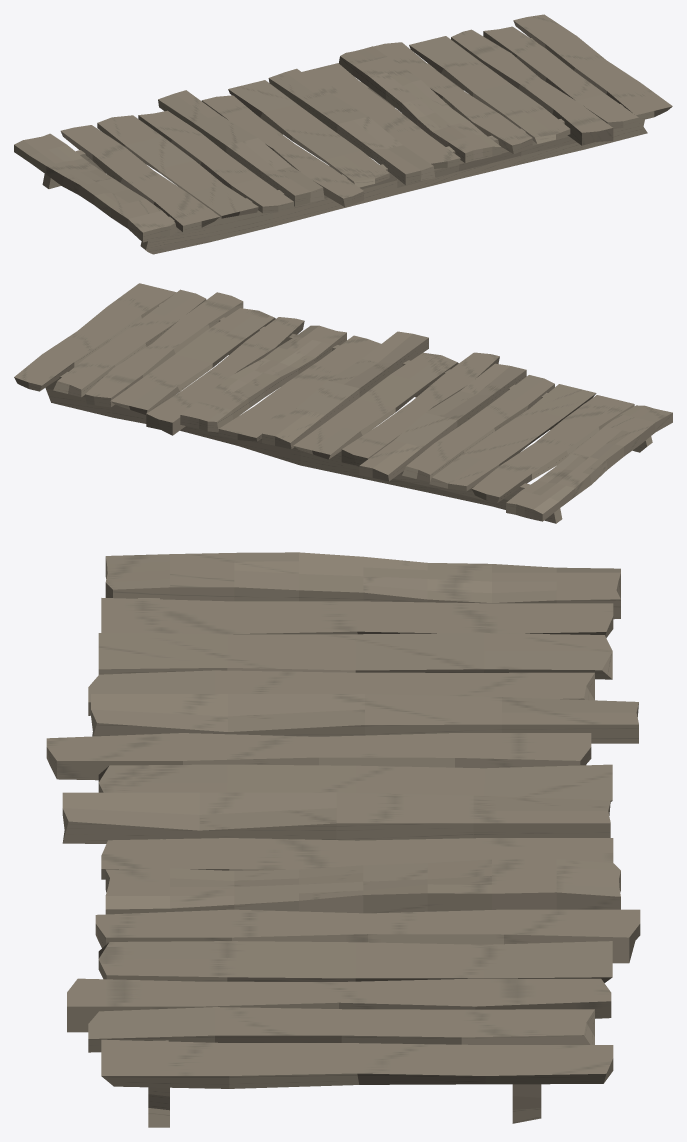
The model's file is Plataforma Tablones (sin patas).fbx.
3 renders of one model, top to bottom at view 1: azimuth 30°, elevation 25°; view 2: azimuth 150°, elevation 25°; view 3: azimuth 270°, elevation 25°, orthographic. The views are drawn at different scales.
Visible parts, largest first — view 1: Cube.047; view 2: Cube.047; view 3: Cube.047.
Part boxes in pixels (x1,y1,x2,y2): Cube.047: (14, 14, 672, 254); Cube.047: (14, 283, 672, 523); Cube.047: (46, 552, 640, 1127).
Bounding box in the file's own units: 1954 × 150 × 949.
